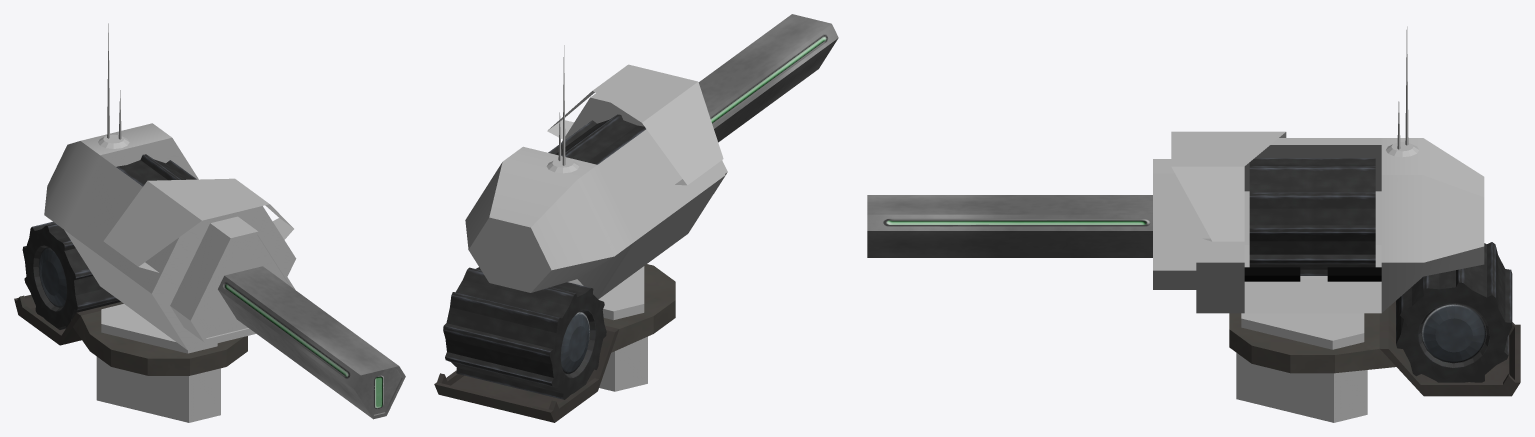
Rendered from gt_head_t1.fbx.
3 renders of one model, left to right at view 1: azimuth 30°, elevation 25°; view 2: azimuth 150°, elevation 25°; view 3: azimuth 270°, elevation 25°, orthographic. The views are drawn at different scales.
Visible parts, largest first — view 1: gt_tier1, barrel, ammo_drum_spare, loading_disc, loading_arm, ammo_drum_loaded; view 2: gt_tier1, ammo_drum_spare, barrel, loading_arm, loading_disc, ammo_drum_loaded; view 3: gt_tier1, barrel, ammo_drum_loaded, ammo_drum_spare, loading_disc, loading_arm, ammo_bar2, ammo_bar1.
Part boxes in pixels (x1=…): gt_tier1: x1=44, y1=23, x2=296, y2=422; barrel: x1=218, y1=266, x2=405, y2=419; ammo_drum_spare: x1=22, y1=222, x2=120, y2=329; loading_disc: x1=73, y1=311, x2=247, y2=375; loading_arm: x1=14, y1=295, x2=123, y2=345; ammo_drum_loaded: x1=116, y1=154, x2=196, y2=186; gt_tier1: x1=465, y1=45, x2=727, y2=391; ammo_drum_spare: x1=443, y1=267, x2=606, y2=399; barrel: x1=698, y1=14, x2=838, y2=142; loading_arm: x1=434, y1=325, x2=619, y2=422; loading_disc: x1=603, y1=264, x2=675, y2=352; ammo_drum_loaded: x1=548, y1=114, x2=645, y2=164; gt_tier1: x1=1153, y1=26, x2=1484, y2=422; barrel: x1=867, y1=195, x2=1152, y2=257; ammo_drum_loaded: x1=1249, y1=158, x2=1375, y2=275; ammo_drum_spare: x1=1396, y1=242, x2=1512, y2=382; loading_disc: x1=1229, y1=313, x2=1396, y2=373; loading_arm: x1=1379, y1=301, x2=1520, y2=396; ammo_bar2: x1=1244, y1=267, x2=1300, y2=281; ammo_bar1: x1=1327, y1=267, x2=1381, y2=281.
Size of the model in its own units: 1.64 by 3.51 by 5.63.
